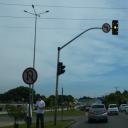NoVirarEsquerda: (102, 22, 111, 34)
NoVirarU: (22, 66, 38, 85)
